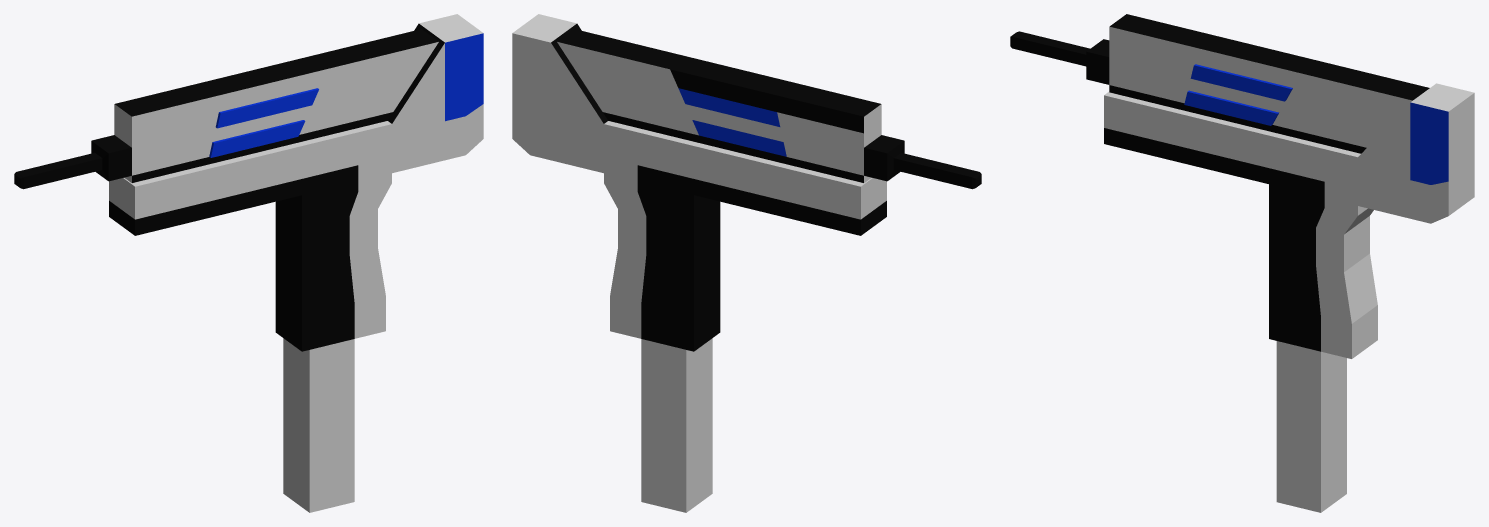
Rendered from SubmachinePistol.fbx.
3 renders of one model, left to right at view 1: azimuth 30°, elevation 25°; view 2: azimuth 150°, elevation 25°; view 3: azimuth 330°, elevation 25°, orthographic.
Parts seen in each view (by area): view 1: Cube.037; view 2: Cube.037; view 3: Cube.037.
Boxes of the visible parts, <box> form: Cube.037: <box>14,14,483,512</box>; Cube.037: <box>512,14,981,512</box>; Cube.037: <box>1010,14,1474,512</box>.
Bounding box in the file's own units: 463 × 426 × 46.44.
